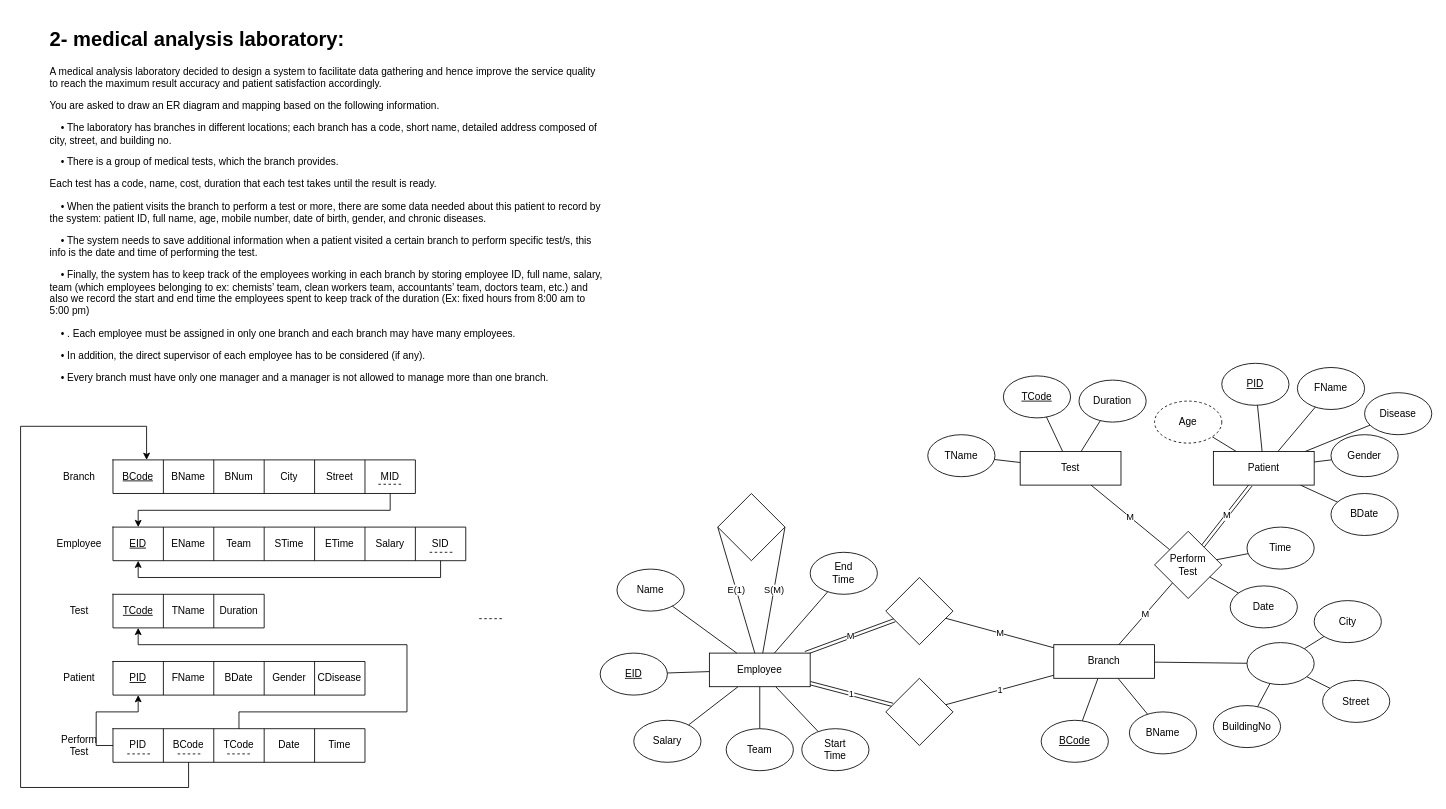
Image size: 1446x809. Some labels were removed from this diagram. Each missing label, with the centre of its shape:
"Address" belongs at (1280,663).
"Assigned" belongs at (919,611).
"Managed" belongs at (919,711).
"Supervise" belongs at (751,527).
